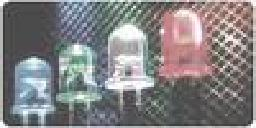LED: (159, 9, 209, 87), (106, 21, 154, 94), (58, 42, 103, 105), (12, 55, 55, 118)
